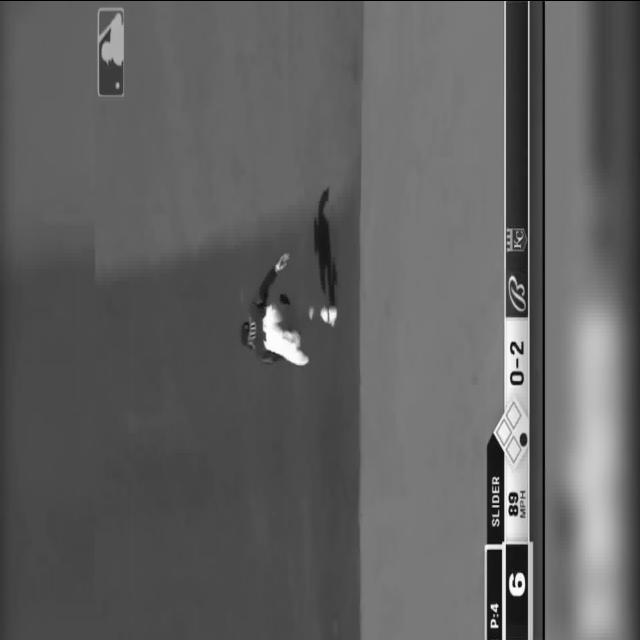shoe: (320, 305, 337, 327), (282, 329, 300, 345), (280, 294, 290, 304)
